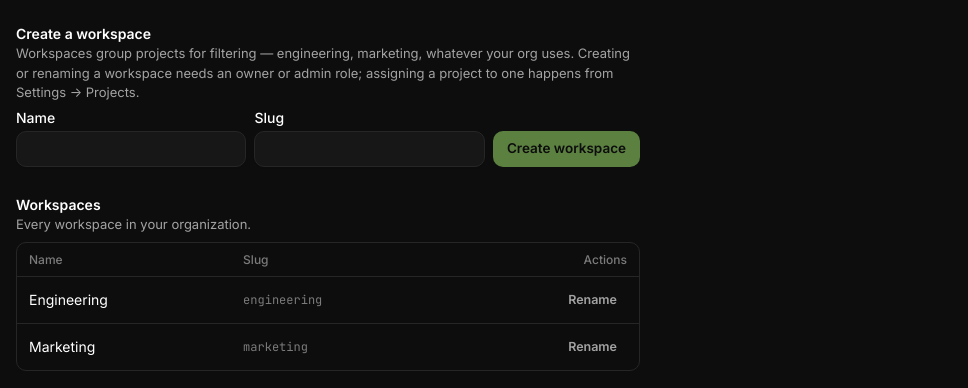
Test: creating a team › POSTs name and slug, clears the form, and refreshes the list
In the field labelled "Name": (131, 148) [16, 130, 246, 166], type "Design"
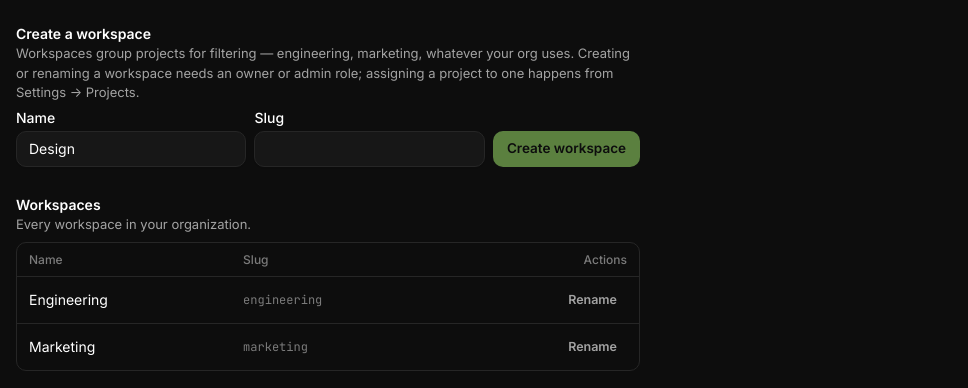
In the field labelled "Slug": (370, 148) [254, 130, 485, 166], type "design"
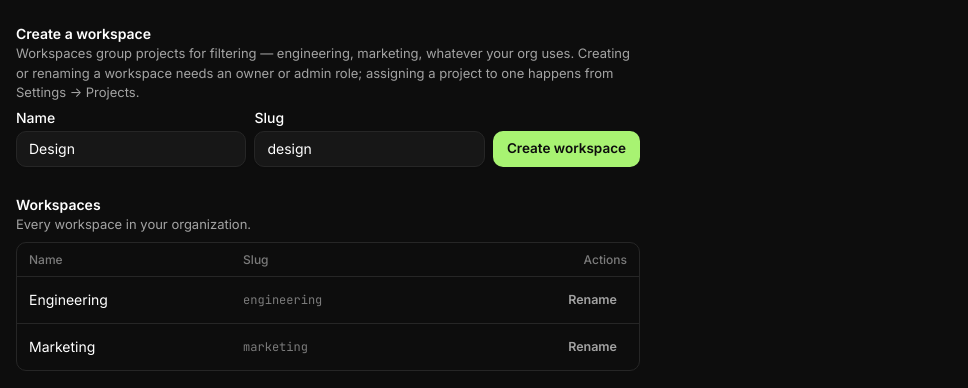
Click the button "Create workspace": (566, 148) [493, 130, 640, 166]
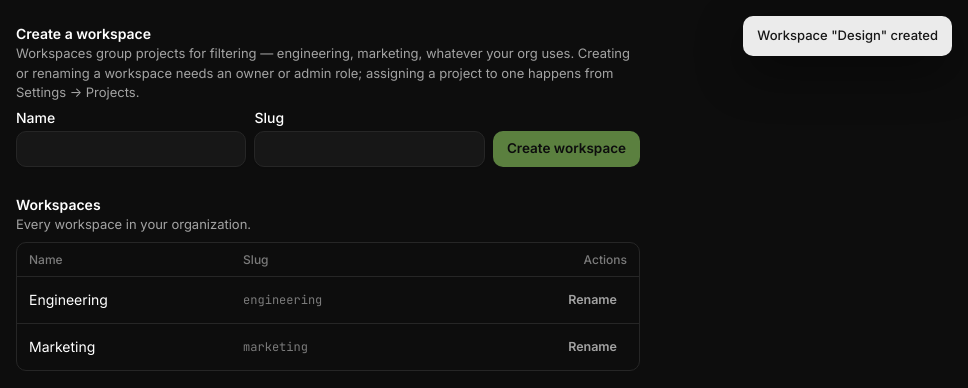
Result: the field labelled "Name" is empty at [16, 130, 246, 166]
Result: the field labelled "Slug" is empty at [254, 130, 485, 166]
Result: the message shows "Design" at [757, 27, 938, 43]
